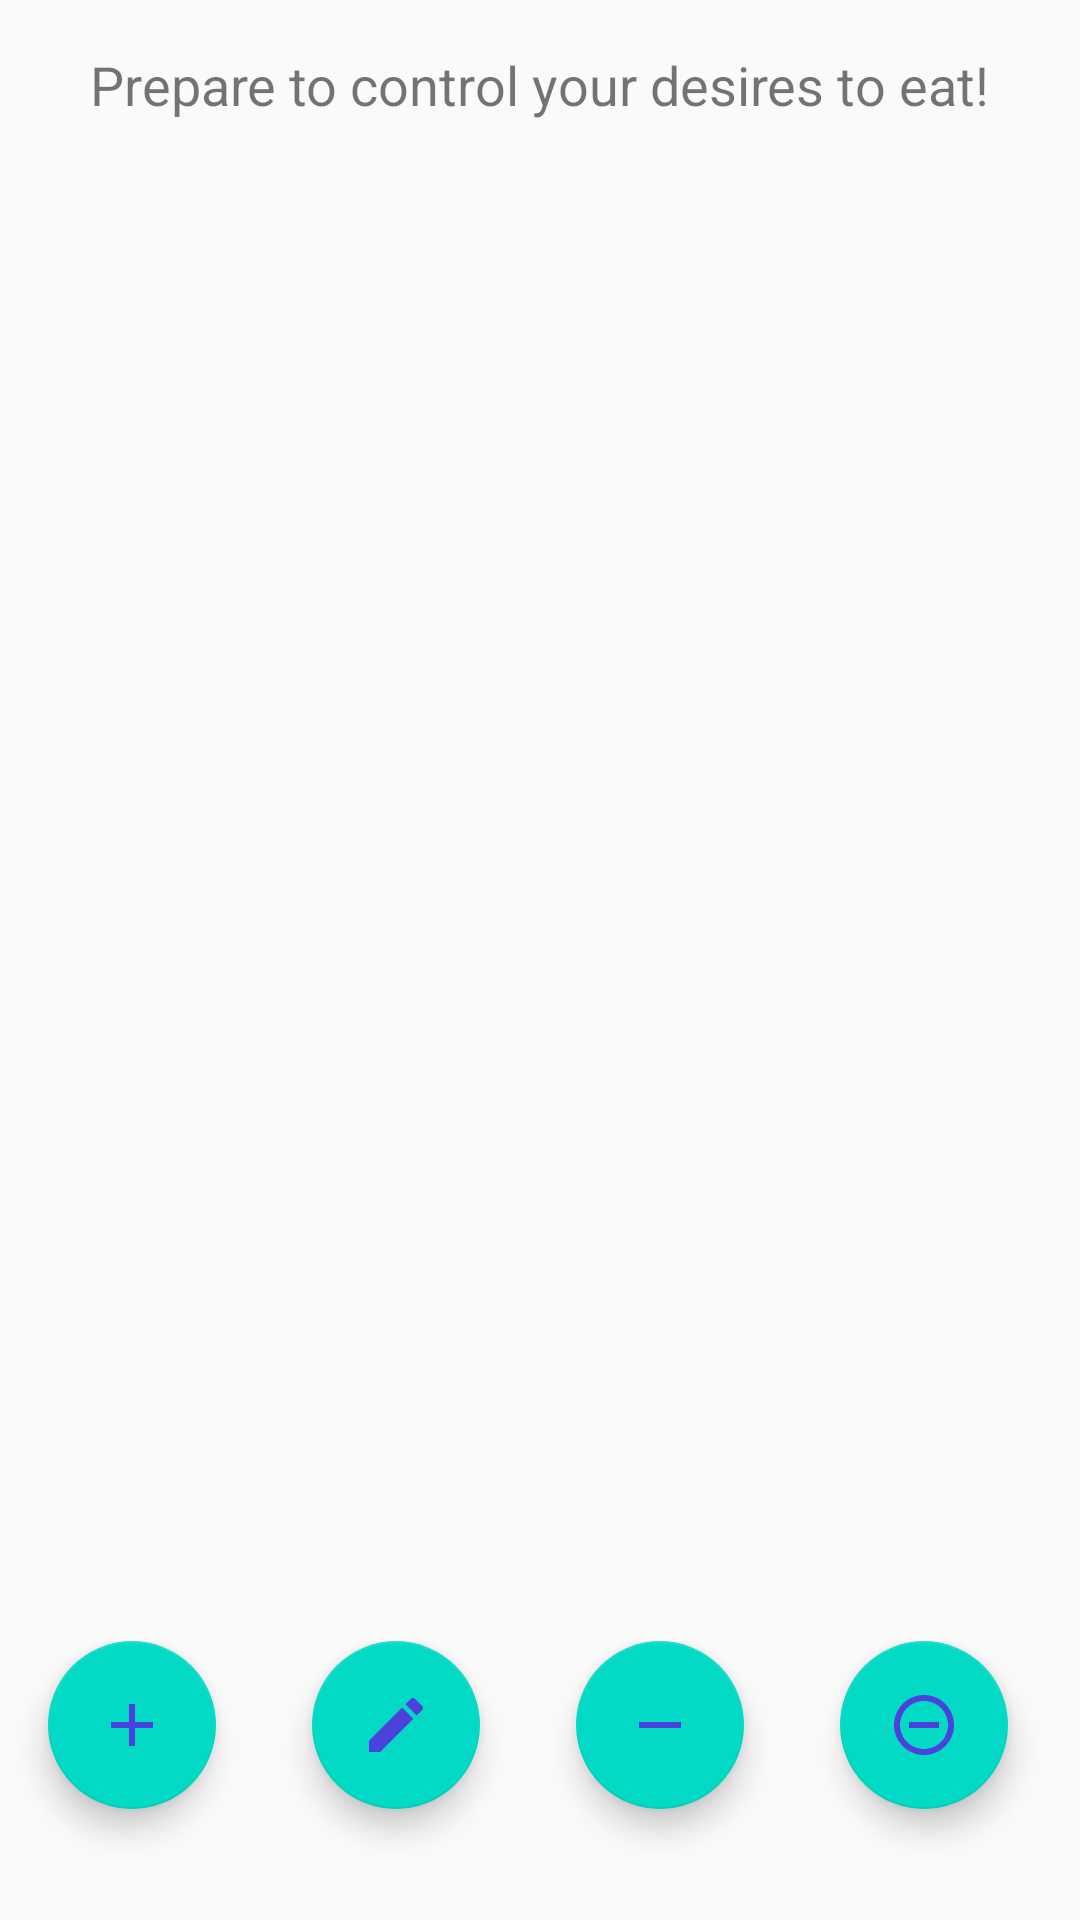

Locate icon controls on the screen. Image size 1080 × 1920, boxes as (x1, y1, x2, y2).
add: (48, 1641, 216, 1809)
edit: (312, 1641, 480, 1809)
remove: (576, 1641, 744, 1809)
remove circle: (840, 1641, 1008, 1809)
